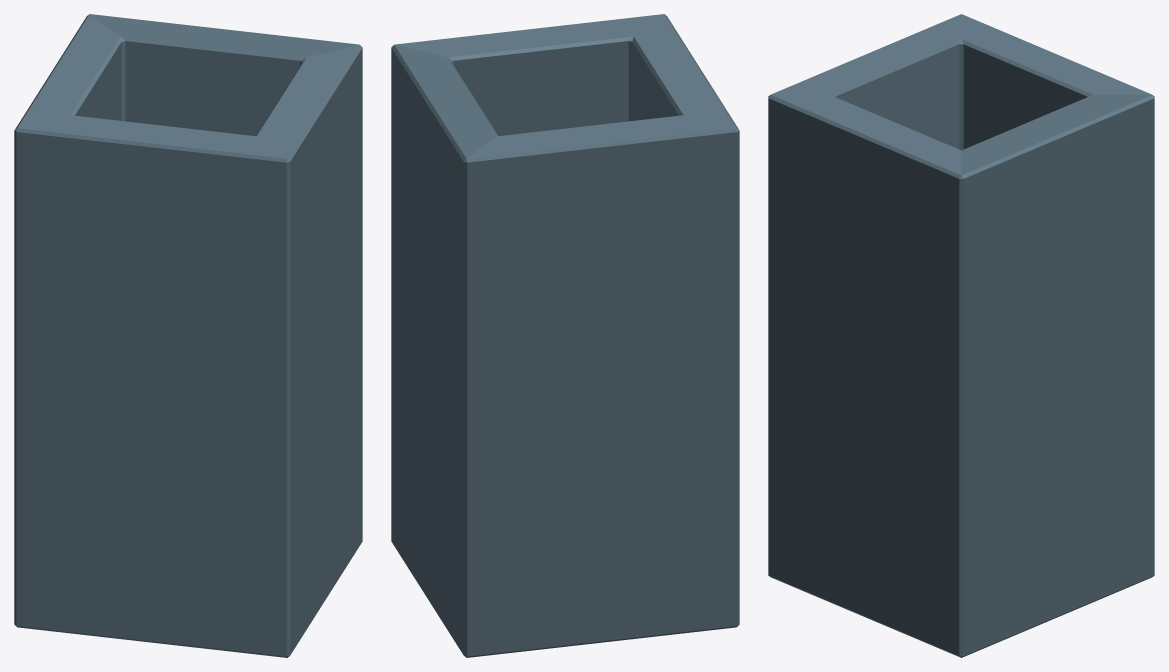
Rendered from P34_Square_Tube.fbx.
The picture shows the model from 3 angles, left to right: view 1: azimuth 30°, elevation 25°; view 2: azimuth 150°, elevation 25°; view 3: azimuth 270°, elevation 25°; orthographic projection. The views are drawn at different scales.
Parts seen in each view (by area): view 1: P34_Square_Tube; view 2: P34_Square_Tube; view 3: P34_Square_Tube.
Part boxes in pixels (x1=…): P34_Square_Tube: x1=14, y1=14, x2=362, y2=657; P34_Square_Tube: x1=391, y1=14, x2=739, y2=657; P34_Square_Tube: x1=768, y1=14, x2=1154, y2=657.
Size of the model in its own units: 1.09 by 1.5 by 1.09.
1 material, 1 textured.
